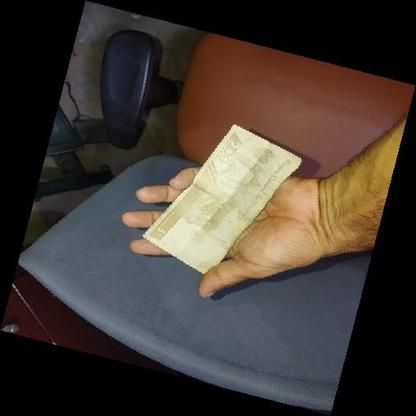five-back-vef: (142, 123, 302, 274)
